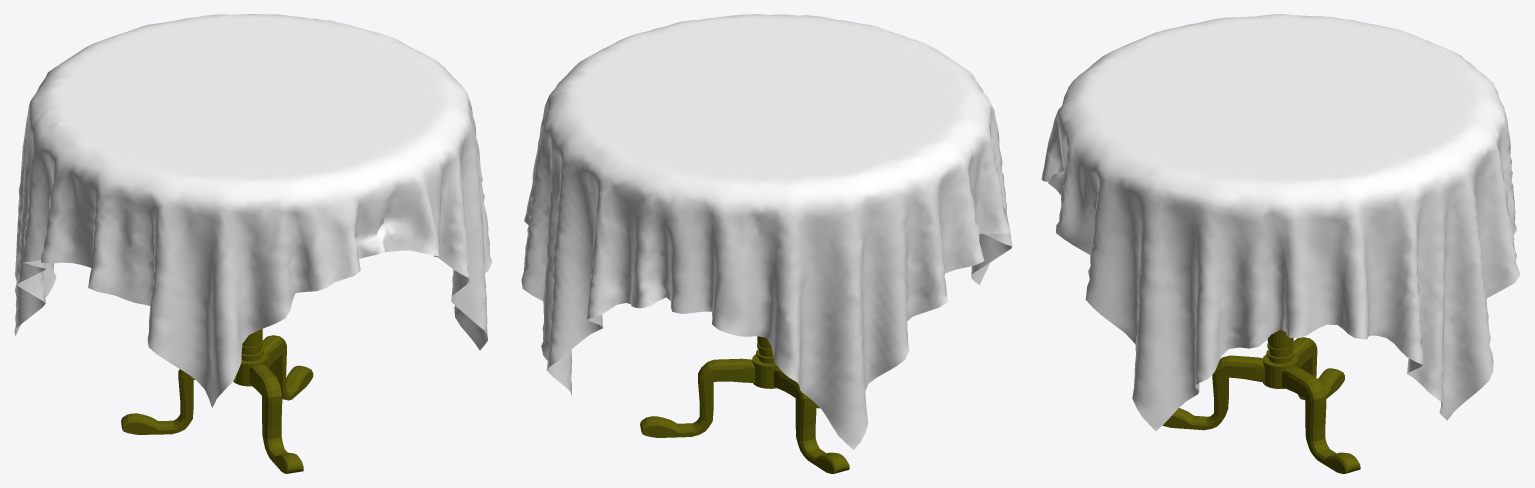
File: mesitta.fbx
3 renders of one model, left to right at view 1: azimuth 30°, elevation 25°; view 2: azimuth 150°, elevation 25°; view 3: azimuth 270°, elevation 25°, orthographic.
Parts seen in each view (by area): view 1: mantel, mesita; view 2: mantel, mesita; view 3: mantel, mesita.
Boxes of the visible parts, <box> form: mantel: <box>14,14,492,407</box>; mesita: <box>121,329,313,473</box>; mantel: <box>521,14,1012,449</box>; mesita: <box>640,336,849,473</box>; mantel: <box>1041,14,1520,430</box>; mesita: <box>1162,329,1360,473</box>.
Bounding box in the file's own units: 1.78 × 1.35 × 1.76.
